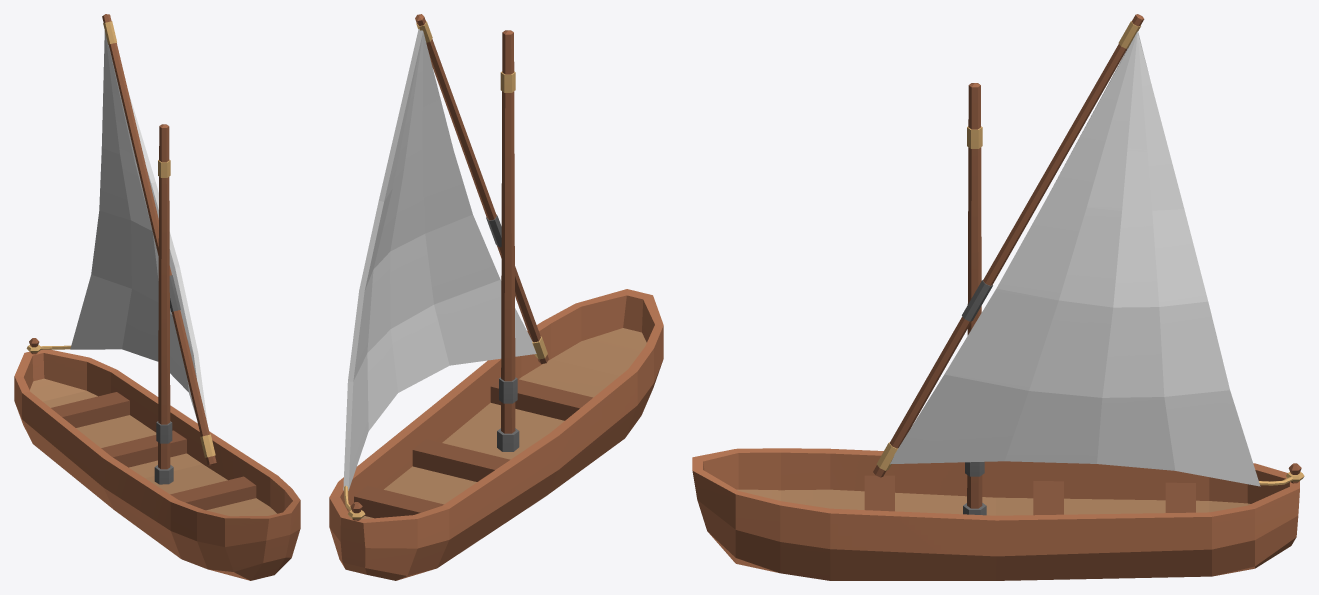
Rendered from sailboat-3.glb.
The picture shows the model from 3 angles, left to right: view 1: azimuth 30°, elevation 25°; view 2: azimuth 150°, elevation 25°; view 3: azimuth 270°, elevation 25°; orthographic projection. The views are drawn at different scales.
Visible parts, largest first — view 1: sailboat_4; view 2: sailboat_4; view 3: sailboat_4.
Boxes of the visible parts, x1,y1,x2,y2 form: sailboat_4: (14, 14, 300, 580); sailboat_4: (329, 14, 663, 580); sailboat_4: (692, 14, 1304, 580).
Bounding box in the file's own units: 1.69 × 6.79 × 6.76.
1 material, 1 textured.
